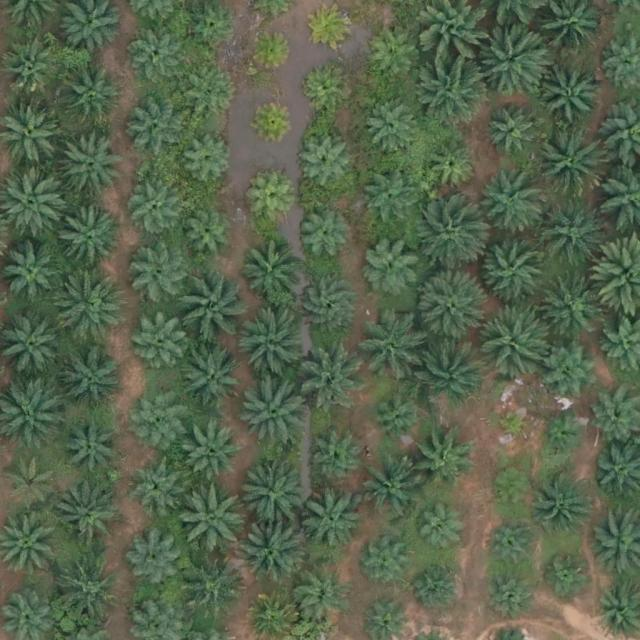Healthy: (414, 271, 485, 342), (235, 376, 306, 447), (534, 129, 605, 199), (474, 171, 544, 242), (414, 335, 484, 406), (239, 517, 309, 588), (234, 457, 304, 528), (237, 311, 307, 382), (174, 272, 244, 343), (176, 484, 246, 555), (54, 275, 125, 345), (51, 560, 121, 631), (537, 199, 607, 269), (479, 233, 549, 303), (477, 307, 547, 377), (413, 203, 483, 273), (296, 339, 366, 409), (54, 207, 124, 277), (479, 24, 549, 94), (419, 57, 489, 127), (539, 274, 602, 337), (540, 338, 603, 401), (410, 430, 473, 493), (300, 491, 363, 554), (179, 346, 242, 409), (180, 556, 243, 619), (60, 131, 123, 194), (2, 244, 65, 307), (60, 64, 123, 127), (127, 96, 190, 159), (357, 461, 419, 524), (361, 234, 423, 297), (357, 318, 419, 381), (297, 277, 360, 339), (240, 241, 302, 304), (130, 244, 192, 307), (61, 349, 123, 412), (57, 489, 119, 552), (541, 64, 603, 127), (535, 471, 597, 534), (487, 518, 542, 573), (481, 569, 536, 624), (424, 140, 479, 195), (370, 391, 425, 446), (296, 136, 351, 191), (310, 434, 365, 489), (187, 429, 242, 484), (126, 534, 181, 589), (133, 316, 188, 371), (124, 181, 179, 236), (65, 419, 120, 474), (184, 72, 239, 127), (486, 106, 541, 161), (366, 30, 421, 85), (365, 98, 420, 153), (129, 28, 184, 83), (361, 171, 415, 227), (6, 455, 60, 511), (297, 208, 351, 263), (296, 572, 350, 627), (182, 133, 236, 188), (180, 211, 234, 266), (126, 458, 180, 513), (132, 388, 186, 443), (2, 42, 56, 97)
Small: (300, 64, 347, 112), (414, 507, 461, 555), (416, 562, 463, 610), (540, 412, 587, 460), (544, 551, 591, 598), (364, 542, 411, 589), (489, 467, 536, 514), (494, 405, 533, 444)
Yellow: (251, 97, 298, 145), (309, 4, 356, 52), (248, 177, 295, 224), (248, 29, 295, 76)
